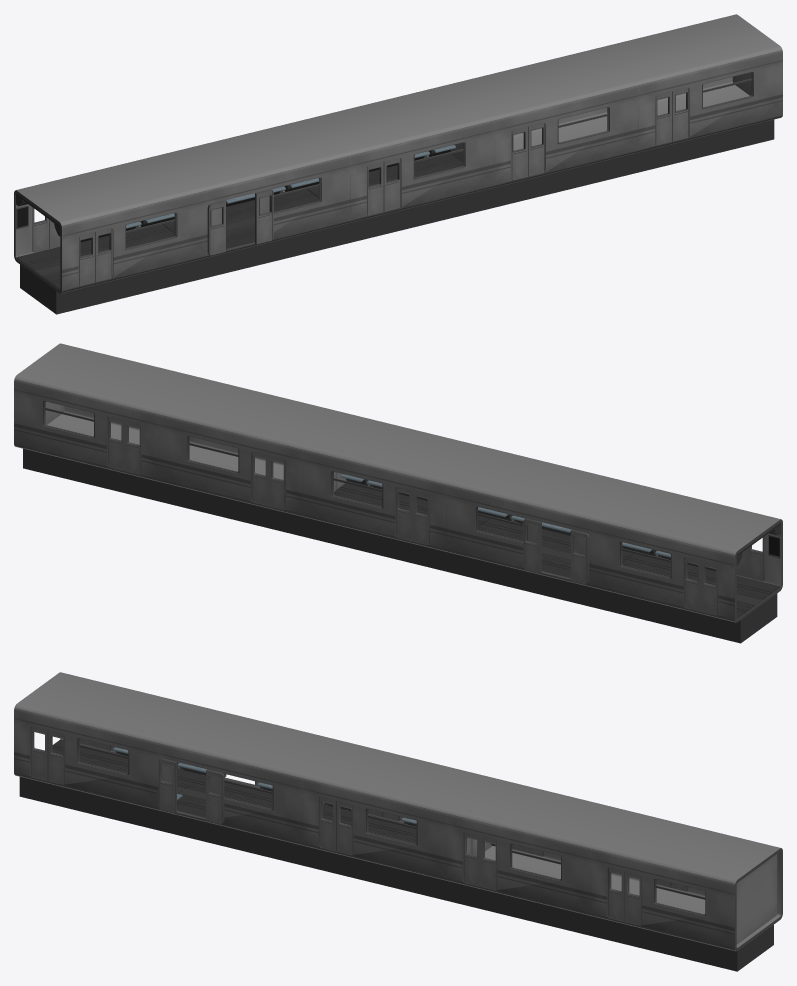
Rendered from Train2.fbx.
3 renders of one model, top to bottom at view 1: azimuth 30°, elevation 25°; view 2: azimuth 150°, elevation 25°; view 3: azimuth 330°, elevation 25°, orthographic.
Visible parts, largest first — view 1: Train_2, TrainBase_2, Floor_2, Doors2_2, Doors1_2, Window_2, DoorR_2, DoorL_2; view 2: Train_2, TrainBase_2, Floor_2, Doors2_2, Doors1_2, Window_2, DoorR_2, DoorL_2; view 3: Train_2, TrainBase_2, Doors2_2, Floor_2, TrainWall_2, Window_2, Doors1_2, DoorR_2, DoorL_2.
Part boxes in pixels (x1=…): Train_2: x1=14, y1=14, x2=782, y2=293; TrainBase_2: x1=20, y1=119, x2=774, y2=314; Floor_2: x1=16, y1=154, x2=462, y2=289; Doors2_2: x1=367, y1=87, x2=689, y2=215; Doors1_2: x1=32, y1=207, x2=112, y2=285; Window_2: x1=125, y1=72, x2=753, y2=249; DoorR_2: x1=207, y1=200, x2=226, y2=255; DoorL_2: x1=255, y1=189, x2=273, y2=244; Train_2: x1=14, y1=343, x2=782, y2=622; TrainBase_2: x1=23, y1=448, x2=777, y2=643; Floor_2: x1=334, y1=483, x2=780, y2=618; Doors2_2: x1=107, y1=416, x2=429, y2=544; Doors1_2: x1=684, y1=536, x2=764, y2=615; Window_2: x1=43, y1=401, x2=671, y2=578; DoorR_2: x1=570, y1=529, x2=589, y2=584; DoorL_2: x1=523, y1=518, x2=541, y2=573; Train_2: x1=14, y1=672, x2=782, y2=951; TrainBase_2: x1=19, y1=777, x2=773, y2=971; Doors2_2: x1=319, y1=797, x2=688, y2=925; Floor_2: x1=52, y1=739, x2=416, y2=843; TrainWall_2: x1=736, y1=854, x2=777, y2=944; Window_2: x1=77, y1=738, x2=705, y2=915; Doors1_2: x1=31, y1=726, x2=111, y2=784; DoorR_2: x1=158, y1=758, x2=226, y2=813; DoorL_2: x1=206, y1=769, x2=255, y2=824.
Bounding box in the file's own units: 28.72 × 3.51 × 3.62.
1 material, 1 textured.
